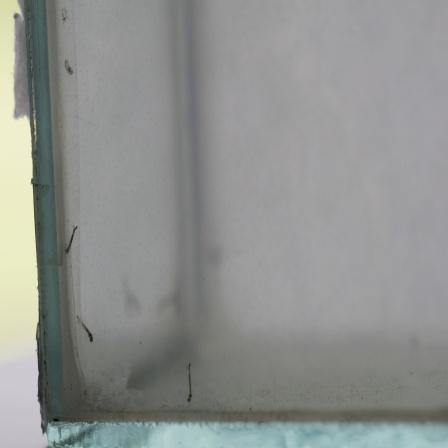Jentik-Nyamuk: (180, 359, 199, 410), (58, 222, 81, 258), (73, 314, 98, 347)
